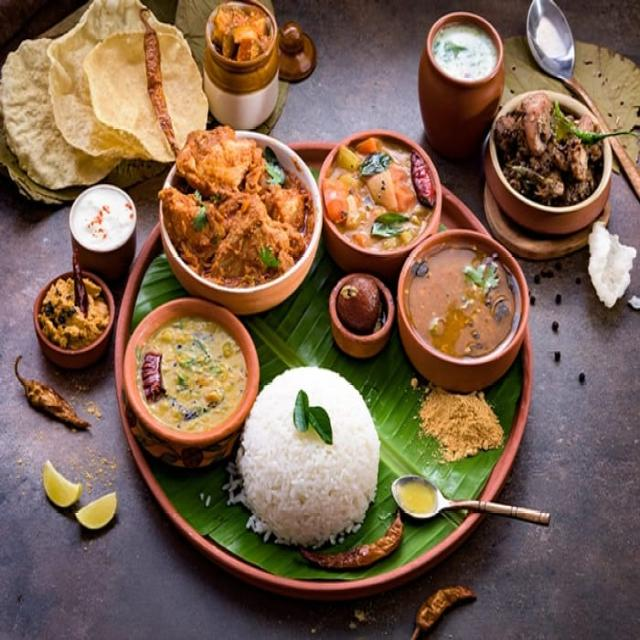non veg meals: (0, 0, 640, 571)
